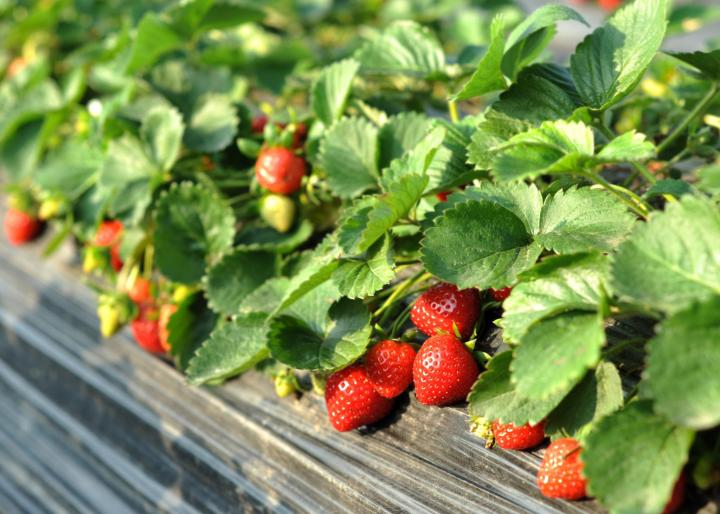ripe_strawberry: (412, 332, 481, 407), (326, 363, 395, 434), (409, 280, 479, 342), (538, 437, 604, 502), (362, 338, 418, 400), (256, 147, 307, 195), (3, 207, 50, 248), (492, 415, 545, 450), (130, 304, 163, 354), (129, 277, 154, 310), (94, 222, 123, 247), (489, 283, 514, 301), (111, 244, 125, 274)
unripe_strawberry: (258, 195, 297, 234), (95, 297, 123, 341), (158, 303, 182, 353), (38, 196, 71, 222), (275, 370, 300, 399), (81, 246, 103, 275), (310, 370, 326, 396)
